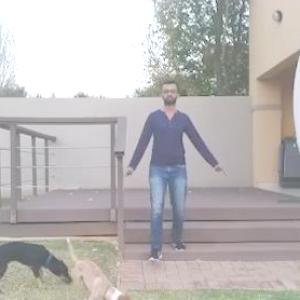land: (125, 88, 214, 254)
